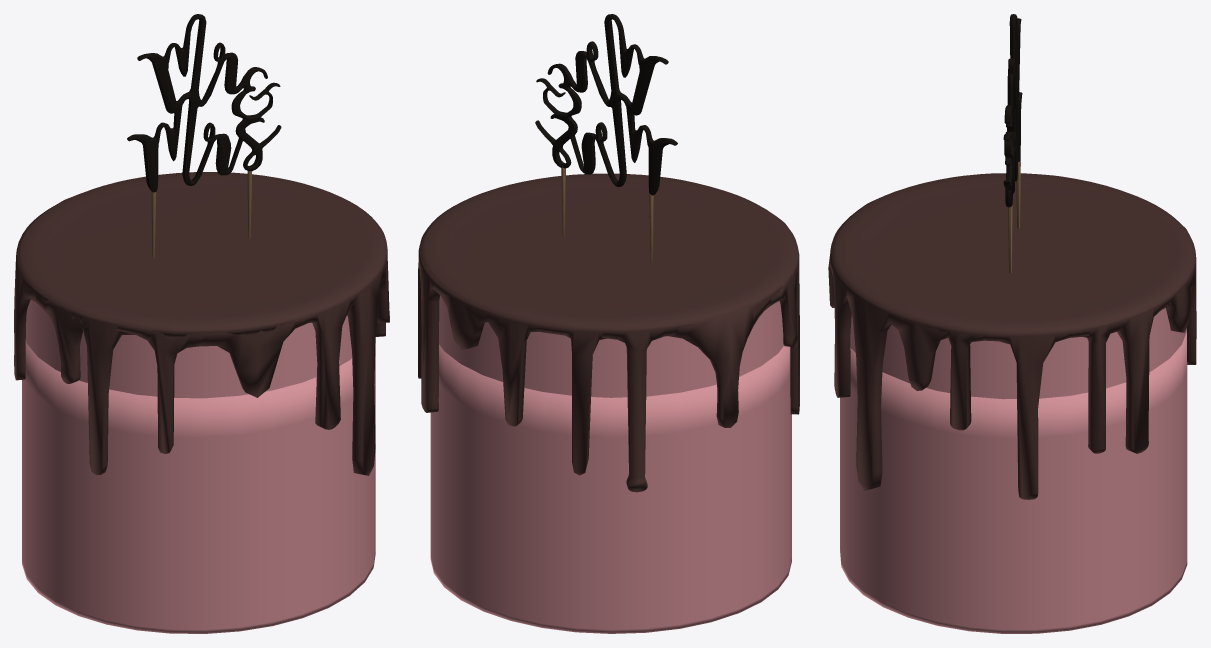
The model's file is 1-tier-blush-ganache-mrms.glb.
The picture shows the model from 3 angles, left to right: view 1: azimuth 30°, elevation 25°; view 2: azimuth 150°, elevation 25°; view 3: azimuth 270°, elevation 25°; orthographic projection.
Parts seen in each view (by area): view 1: Cylinder.019, tHE ICING, mrms; view 2: Cylinder.019, tHE ICING, mrms; view 3: Cylinder.019, tHE ICING, mrms.
Part boxes in pixels (x1=…): Cylinder.019: x1=22, y1=300, x2=375, y2=633; tHE ICING: x1=14, y1=172, x2=389, y2=475; mrms: x1=127, y1=14, x2=281, y2=257; Cylinder.019: x1=430, y1=295, x2=791, y2=633; tHE ICING: x1=418, y1=173, x2=799, y2=492; mrms: x1=535, y1=14, x2=677, y2=261; Cylinder.019: x1=840, y1=308, x2=1187, y2=633; tHE ICING: x1=828, y1=173, x2=1196, y2=499; mrms: x1=1003, y1=14, x2=1022, y2=272.
Size of the model in its own units: 2.8 by 4.41 by 2.71.
